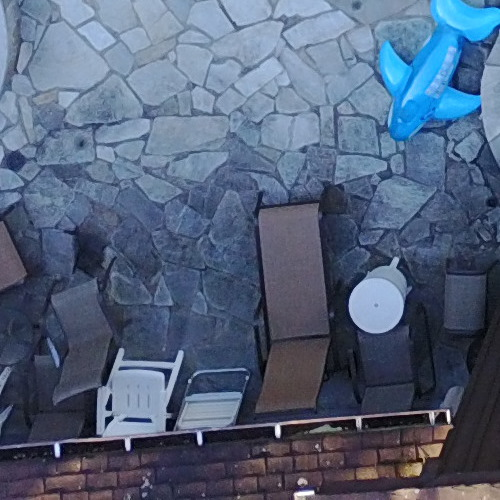container: (343, 253, 422, 340)
larvae: (345, 256, 422, 339)
no larvae: (359, 1, 499, 173)
toy: (359, 4, 500, 175)
